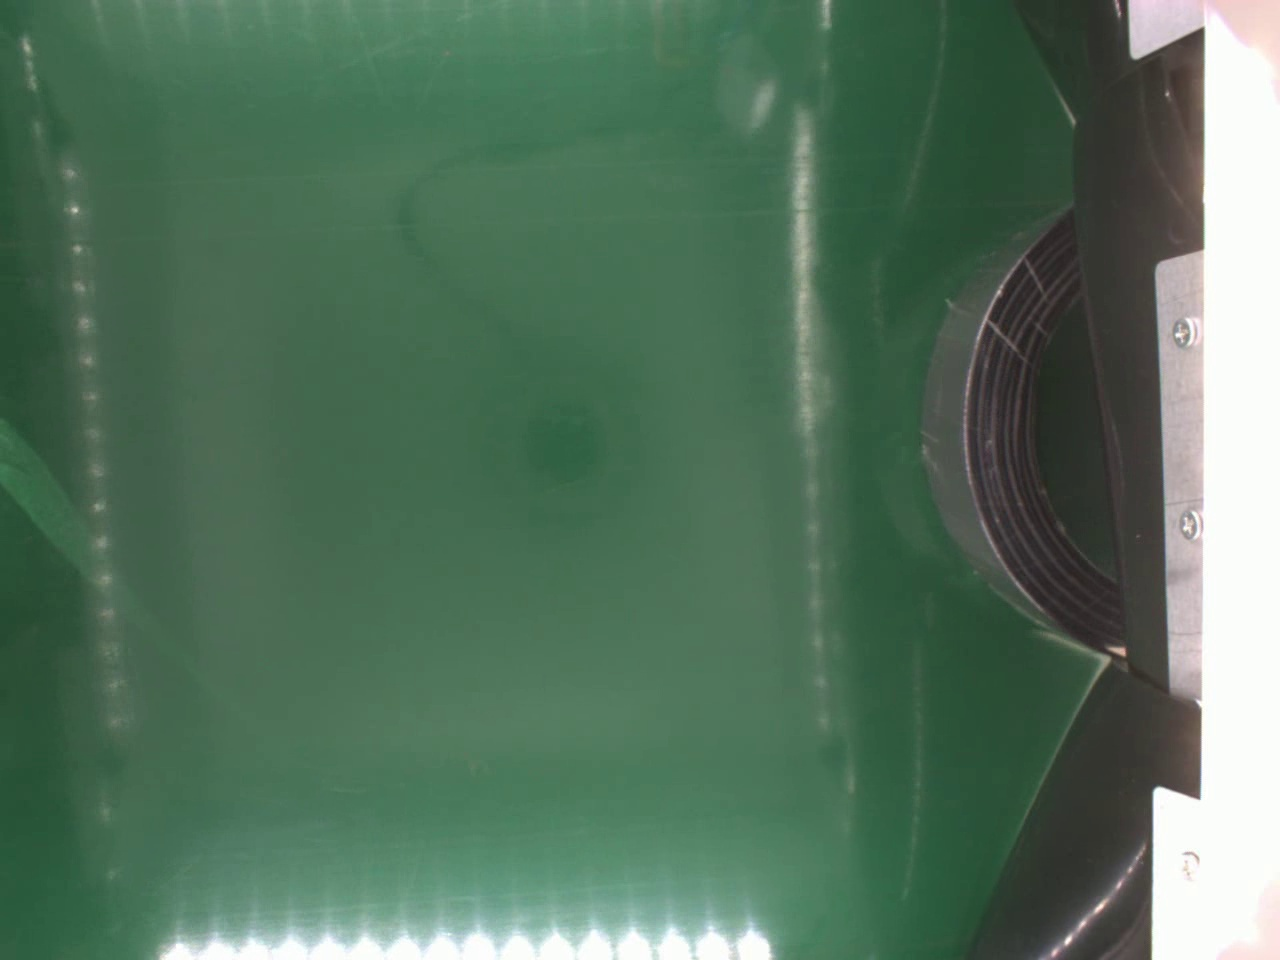black: (927, 197, 1128, 659)
